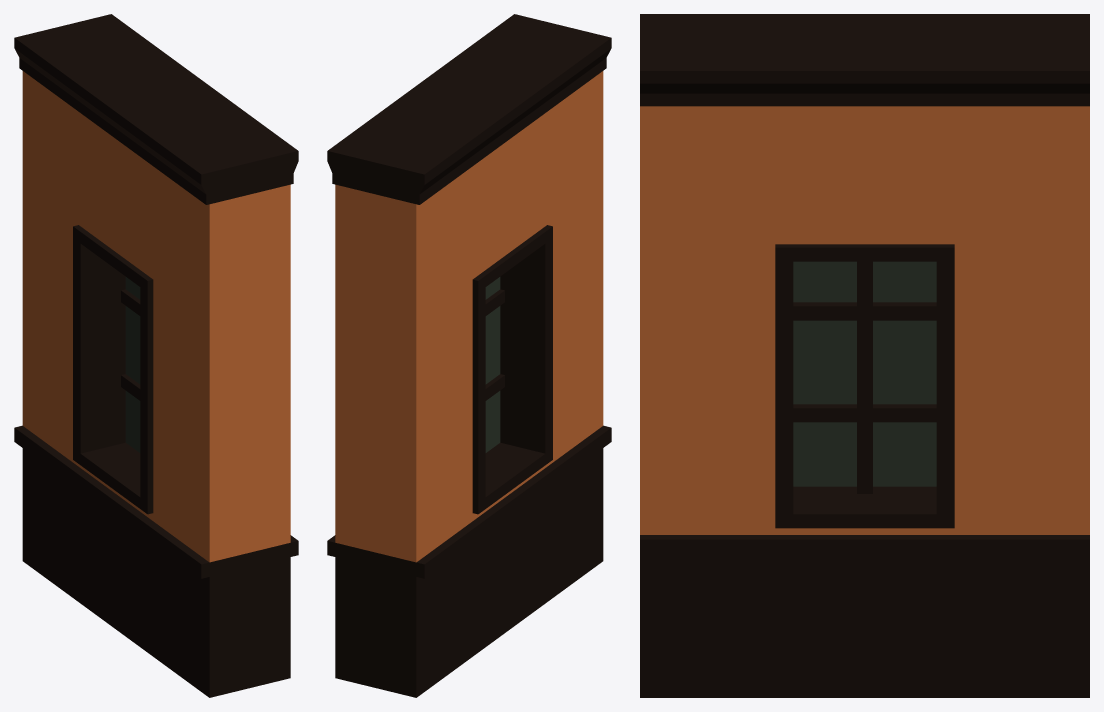
The model's file is WallWindow_Final.fbx.
3 renders of one model, left to right at view 1: azimuth 30°, elevation 25°; view 2: azimuth 150°, elevation 25°; view 3: azimuth 270°, elevation 25°, orthographic. The views are drawn at different scales.
Parts seen in each view (by area): view 1: S_WallWindow; view 2: S_WallWindow; view 3: S_WallWindow.
Part boxes in pixels (x1,y1,x2,y2): S_WallWindow: (14,14,298,697); S_WallWindow: (327,14,611,697); S_WallWindow: (640,14,1089,697).
Bounding box in the file's own units: 0.5994 × 3.1 × 2.
